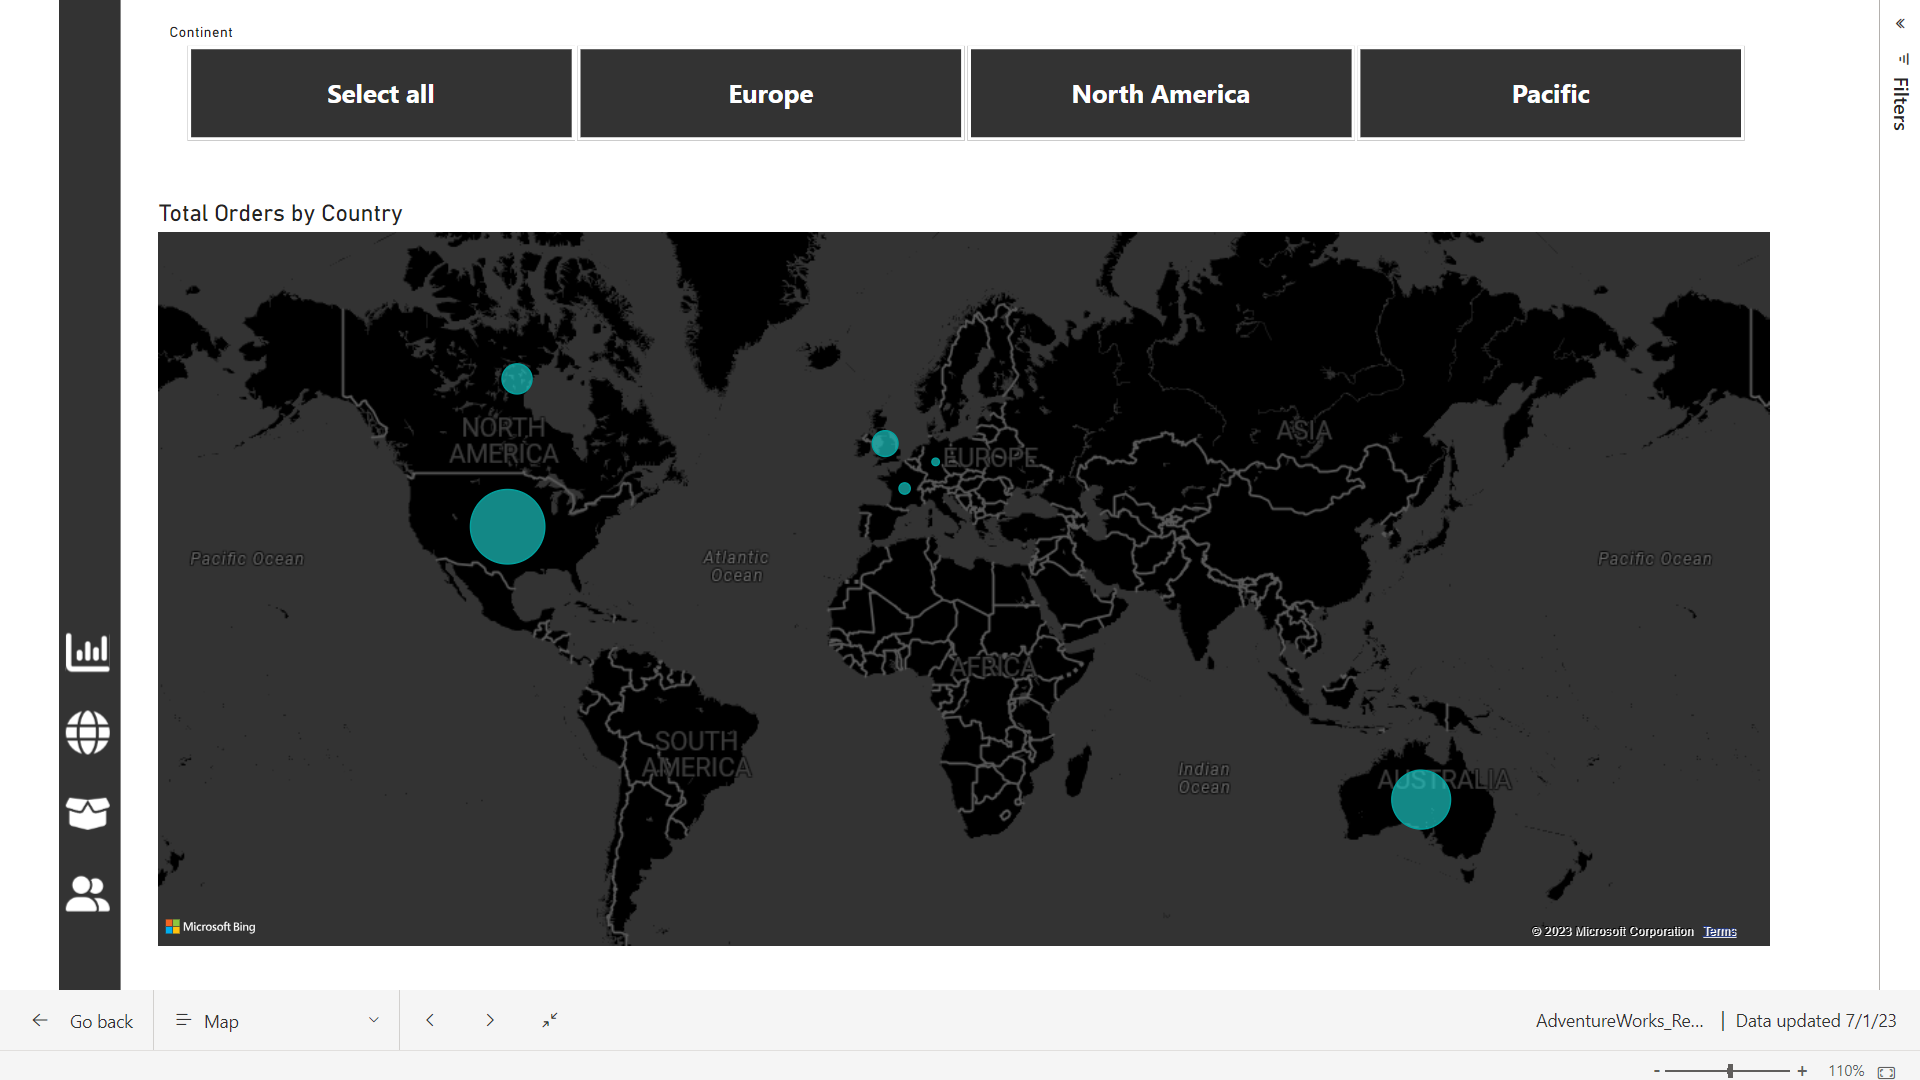

The page's visual inventory and layout, read from the dashboard file:
{"tool":"powerbi","page":{"name":"Map","canvas":[1280,720],"ordinal":1},"visuals":[{"type":"shape","box":[0,0,45,720],"z":0},{"type":"actionButton","box":[1.1,454.3,44.3,40],"z":0,"group":"g1"},{"type":"actionButton","box":[1.1,512.9,44.3,40],"z":1000,"group":"g1"},{"type":"map","fields":{"Category":["AW_Territories_Lookup.Country"],"Size":["AW_Sales.Total Orders"]},"box":[67.6,144.6,1182.4,548.6],"z":1000},{"type":"slicer","fields":{"Values":["AW_Territories_Lookup.Continent"]},"box":[67.6,12.2,1182.4,97.3],"z":2000},{"type":"actionButton","box":[1.1,630,44.3,40],"z":2000,"group":"g1"},{"type":"actionButton","box":[1.1,571.4,44.3,40],"z":3000,"group":"g1"},{"type":"group","id":"g1","title":"Nevigation Buttons","box":[1.1,454.3,44.3,215.7],"z":3000}]}

Visuals, with their boxes on the page's 1280x720 design canvas (x1, y1, x2, y2). These are canvas units, not pixel positions in the 1920x1080 screenshot, which may show the page scaled, cropped or inside an application window:
shape: 0, 0, 45, 720
actionButton: 1, 454, 45, 494
actionButton: 1, 513, 45, 553
map - AW_Territories_Lookup.Country x AW_Sales.Total Orders: 68, 145, 1250, 693
slicer - AW_Territories_Lookup.Continent: 68, 12, 1250, 110
actionButton: 1, 630, 45, 670
actionButton: 1, 571, 45, 611
"Nevigation Buttons" group: 1, 454, 45, 670
